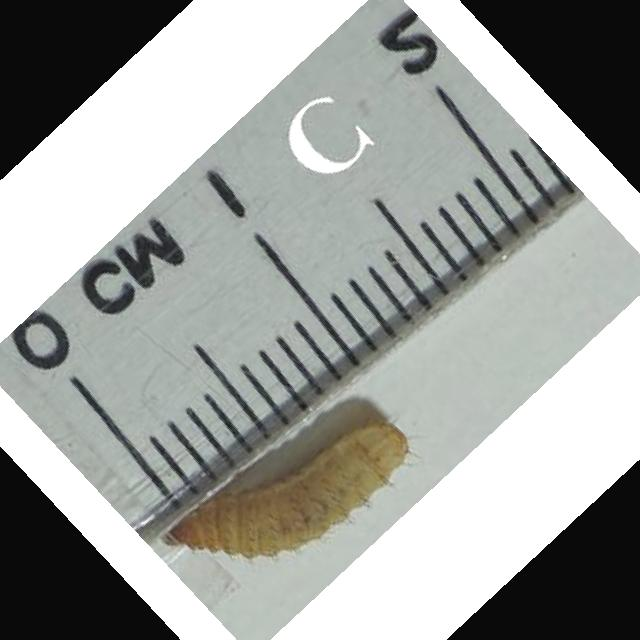Maggot: (167, 423, 417, 556)
